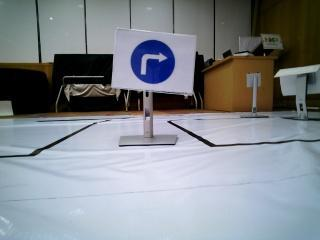right: (117, 32, 186, 94)
